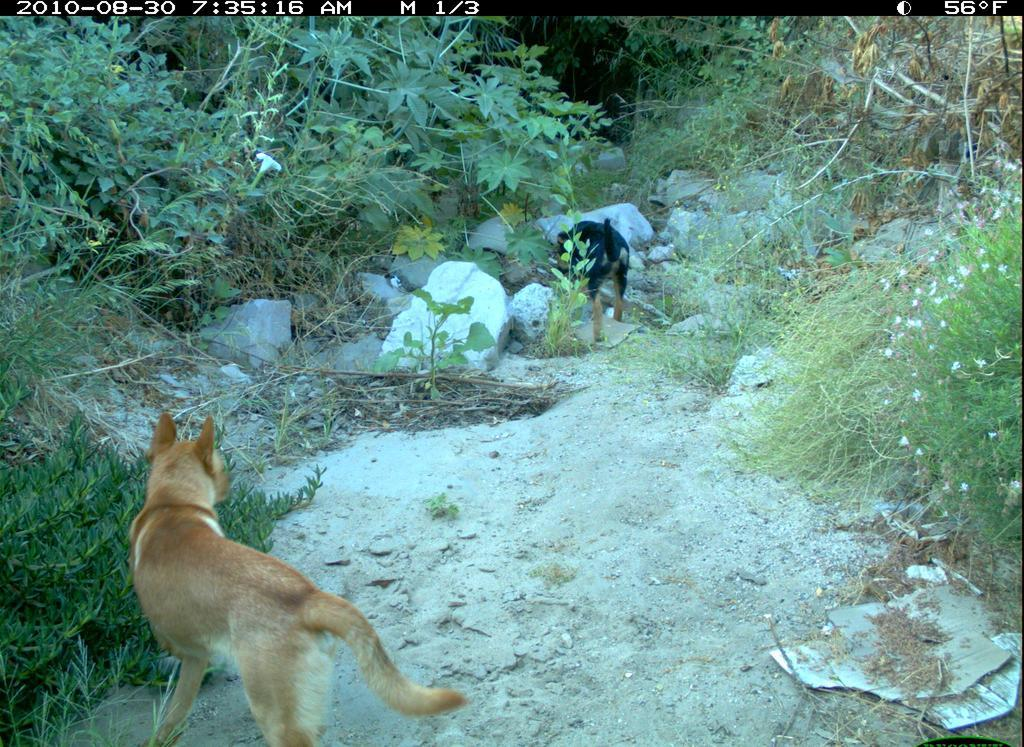dog: (89, 336, 485, 747), (548, 213, 638, 351)
